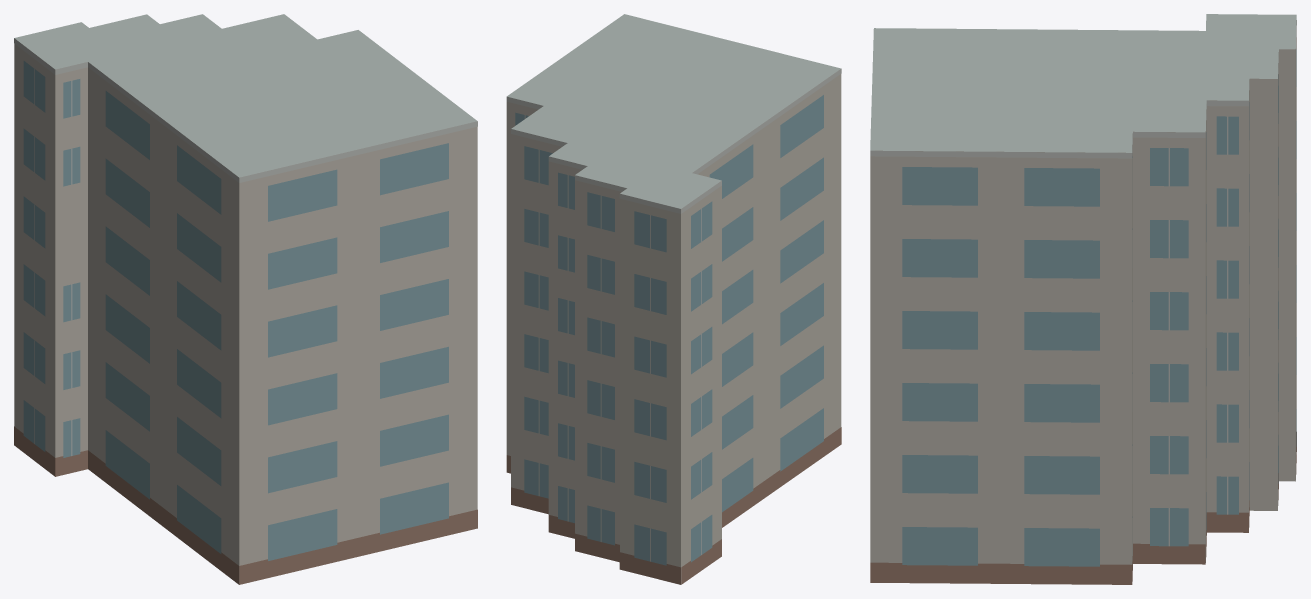
Rendered from survey-upis-32579725.glb.
3 views of the same model, side by side, from view 1: azimuth 30°, elevation 25°; view 2: azimuth 150°, elevation 25°; view 3: azimuth 270°, elevation 25° (orthographic). The views are drawn at different scales.
Visible parts, largest first — view 1: survey-upis-32579725.tmp; view 2: survey-upis-32579725.tmp; view 3: survey-upis-32579725.tmp.
Part boxes in pixels (x1=…): survey-upis-32579725.tmp: x1=14, y1=14, x2=477, y2=584; survey-upis-32579725.tmp: x1=506, y1=14, x2=841, y2=584; survey-upis-32579725.tmp: x1=870, y1=14, x2=1296, y2=584.
Bounding box in the file's own units: 12.62 × 18.3 × 16.39.
